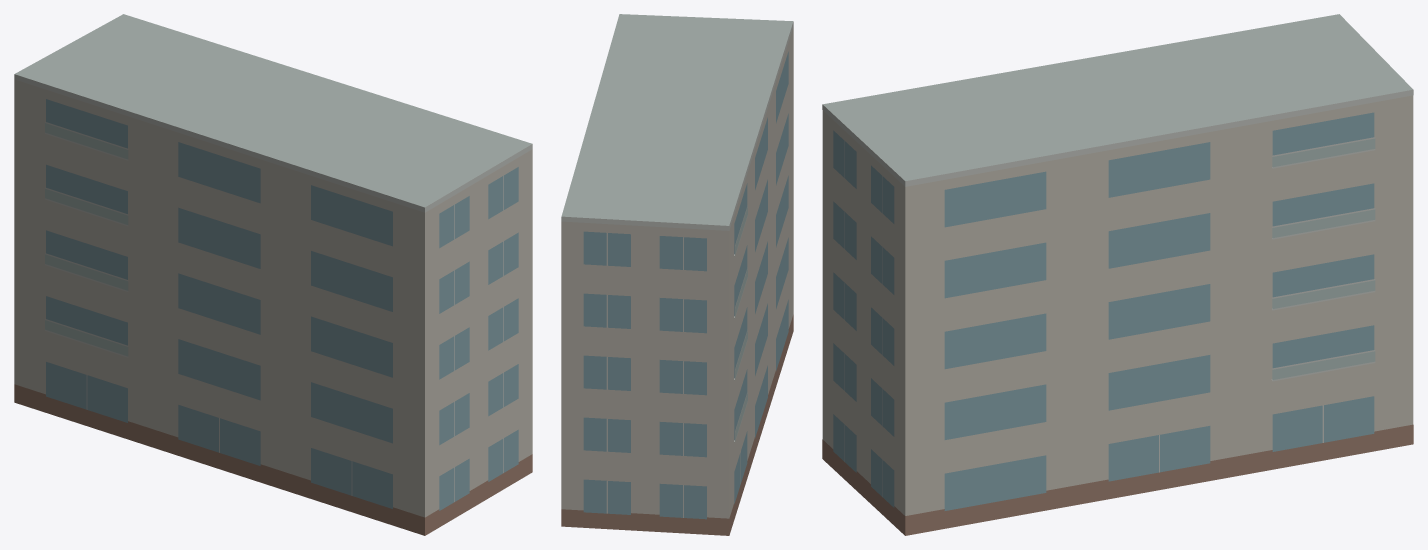
Rendered from residential-81c619be-3222-47cf-b326-cb1c572d92a7.glb.
3 renders of one model, left to right at view 1: azimuth 30°, elevation 25°; view 2: azimuth 150°, elevation 25°; view 3: azimuth 270°, elevation 25°, orthographic. The views are drawn at different scales.
Parts seen in each view (by area): view 1: residential-81c619be-3222-47cf-b326-cb1c572d92a7.tmp; view 2: residential-81c619be-3222-47cf-b326-cb1c572d92a7.tmp; view 3: residential-81c619be-3222-47cf-b326-cb1c572d92a7.tmp.
Boxes of the visible parts, x1,y1,x2,y2 form: residential-81c619be-3222-47cf-b326-cb1c572d92a7.tmp: [14, 14, 532, 535]; residential-81c619be-3222-47cf-b326-cb1c572d92a7.tmp: [561, 14, 793, 535]; residential-81c619be-3222-47cf-b326-cb1c572d92a7.tmp: [822, 14, 1413, 535].
Size of the model in its own units: 15.43 by 15.25 by 23.04.
